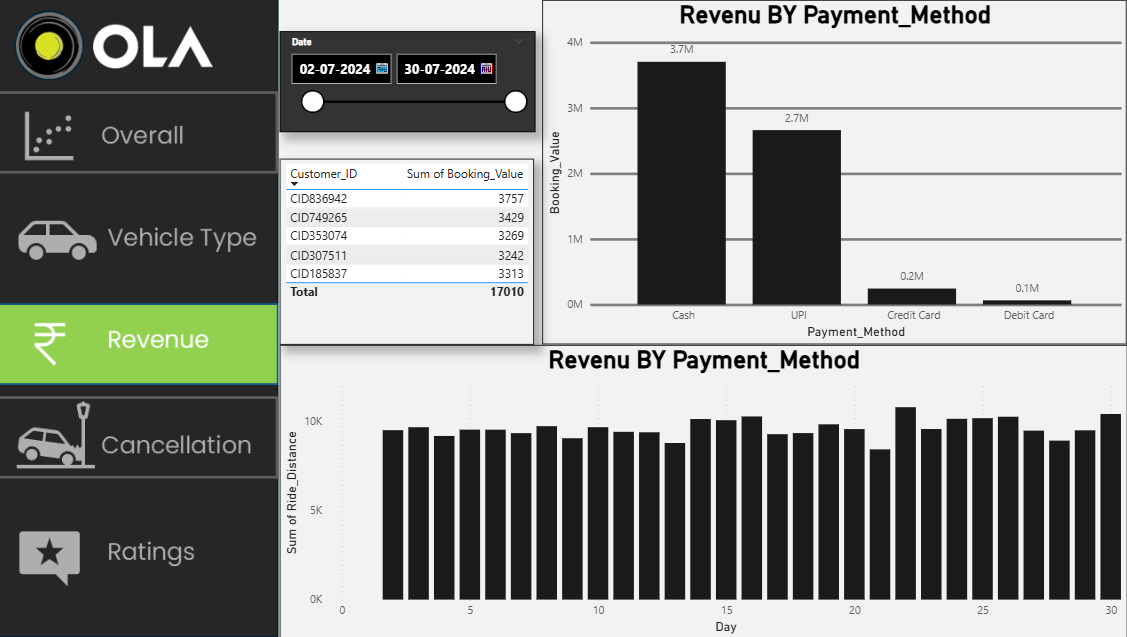

Layout of this report page (visuals, bound fields, positions):
{"tool":"powerbi","page":{"name":"Revenue","canvas":[1280,720],"ordinal":2},"visuals":[{"type":"actionButton","box":[0,446.1,323.7,92.8],"z":0},{"type":"actionButton","box":[0,218.4,324.5,92.9],"z":1000},{"type":"actionButton","box":[0,578.3,323.7,92.8],"z":2000},{"type":"actionButton","box":[0,102.6,323.7,92.8],"z":3000},{"type":"actionButton","box":[0,578.3,323.7,92.8],"z":4000},{"type":"columnChart","title":"Revenu BY Payment_Method","fields":{"Y":["Sum(July.Ride_Distance)"],"Category":["July.Date.Variation.Date Hierarchy.Day"]},"box":[325.2,388.3,955.1,332.1],"z":5000},{"type":"columnChart","title":"Revenu BY Payment_Method","fields":{"Y":["Sum(July.Booking_Value)"],"Category":["July.Payment_Method"]},"box":[621.6,0,658.7,388.3],"z":6000},{"type":"slicer","fields":{"Values":["July.Date"]},"box":[325.2,35.7,288.2,113.9],"z":7000},{"type":"tableEx","title":"Top 5 Customer","fields":{"Values":["July.Customer_ID","Sum(July.Booking_Value)"]},"box":[325.2,178.4,286.8,209.9],"z":8000}]}

Visuals, with their boxes in screenshot pixels (x1, y1, x2, y2), scaled from the page's 1280x720 canvas onto the 1127x637 screenshot:
actionButton: 0,395,285,477
actionButton: 0,193,286,275
actionButton: 0,512,285,594
actionButton: 0,91,285,173
actionButton: 0,512,285,594
"Revenu BY Payment_Method" columnChart: 286,344,1126,636
"Revenu BY Payment_Method" columnChart: 547,0,1126,344
slicer - July.Date: 286,32,540,132
"Top 5 Customer" tableEx: 286,158,539,344
